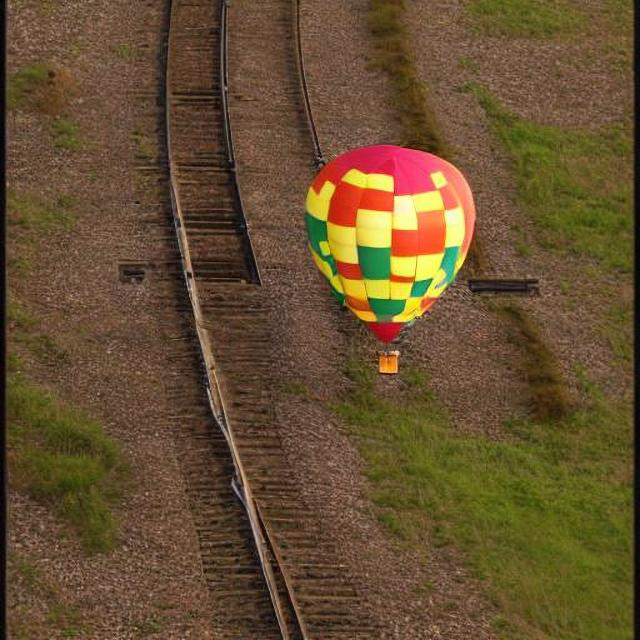balloon: (294, 138, 473, 348)
